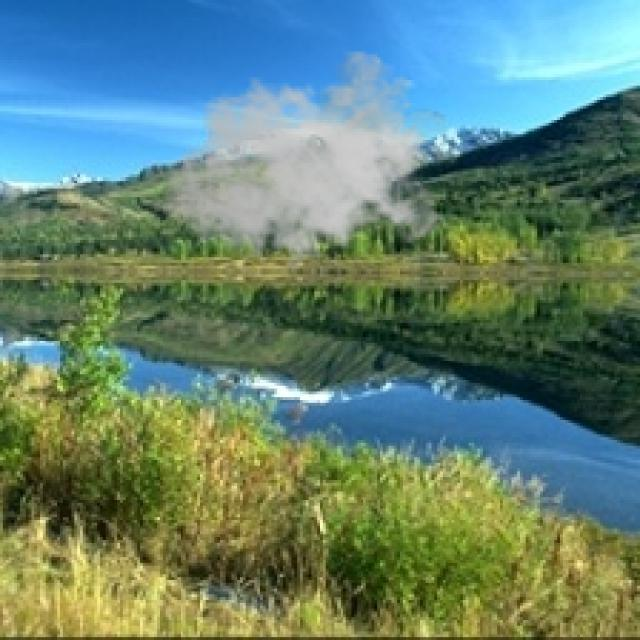Smoke: (166, 51, 446, 283)
